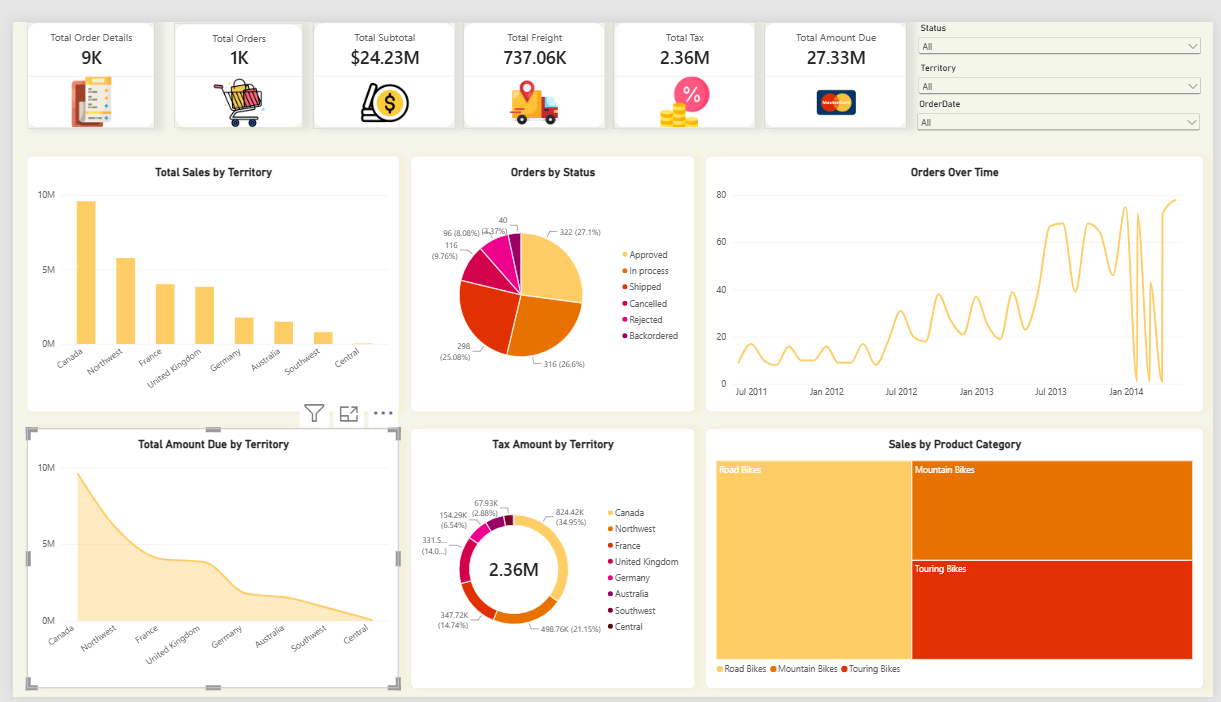

Layout of this report page (visuals, bound fields, positions):
{"tool":"powerbi","page":{"name":"Sales Overview.","canvas":[1920,1080],"ordinal":0},"visuals":[{"type":"cardVisual","fields":{"Data":["Table.# Order Details"]},"box":[21.7,0,205.8,170.8],"z":0},{"type":"cardVisual","fields":{"Data":["Table.orders"]},"box":[258,2,206,168],"z":1000},{"type":"cardVisual","fields":{"Data":["Table.Total SubTotal"]},"box":[480,0,228.5,170.8],"z":2000},{"type":"cardVisual","fields":{"Data":["Table.Total Tax"]},"box":[960,0,228.5,170.8],"z":3000},{"type":"cardVisual","fields":{"Data":["Table.Total Freight"]},"box":[720,0,228.5,170.8],"z":4000},{"type":"cardVisual","fields":{"Data":["Table.Total Due"]},"box":[1201.7,0,228.5,170.8],"z":5000},{"type":"lineChart","title":"\tOrders Over Time","fields":{"Category":["Sales Fact.OrderDate.Variation.Date Hierarchy.Year"],"Y":["Table.orders"]},"box":[1108.3,213.3,796.7,410],"z":6000},{"type":"pieChart","title":"Orders by Status","fields":{"Category":["Status Dem.Status"],"Y":["Table.orders"]},"box":[636.7,213.3,455,410],"z":7000},{"type":"treemap","title":"\tSales by Product Category","fields":{"Group":["Product Dem.ProductCategory Hierarchy.ProductCategory","Product Dem.ProductCategory Hierarchy.ProductSubCategory","Product Dem.ProductCategory Hierarchy.Product"],"Values":["CountNonNull(Sales Fact.OrderQty)"]},"box":[1108.3,650,796.7,416.7],"z":8000},{"type":"stackedAreaChart","title":"Total Amount Due by Territory","fields":{"Category":["Territory Dem.Territory"],"Y":["Table.Total Due"]},"box":[21.7,650,596.7,416.7],"z":9000},{"type":"donutChart","title":"\tTax Amount by Territory","fields":{"Category":["Territory Dem.Territory"],"Y":["Table.Total Tax"]},"box":[636.7,650,455,416.7],"z":10000},{"type":"columnChart","title":"Total Sales by Territory","fields":{"Category":["Territory Dem.Territory"],"Y":["Table.Total Due"]},"box":[21.7,213.3,596.7,410],"z":11000},{"type":"slicer","fields":{"Values":["Status Dem.Status"]},"box":[1443.3,0,461.7,105],"z":12000},{"type":"slicer","fields":{"Values":["Territory Dem.Territory"]},"box":[1444,64,461.7,83.3],"z":13000},{"type":"slicer","fields":{"Values":["Date Dem.OrderDate"]},"box":[1442,122,462,52],"z":13001}]}

Visuals, with their boxes in screenshot pixels (x1, y1, x2, y2), scaled from the page's 1920x1080 canvas onto the 1221x702 screenshot:
cardVisual - Table.# Order Details: 14/0/145/111
cardVisual - Table.orders: 164/1/295/110
cardVisual - Table.Total SubTotal: 305/0/451/111
cardVisual - Table.Total Tax: 610/0/756/111
cardVisual - Table.Total Freight: 458/0/603/111
cardVisual - Table.Total Due: 764/0/910/111
"	Orders Over Time" lineChart: 705/139/1211/405
"Orders by Status" pieChart: 405/139/694/405
"	Sales by Product Category" treemap: 705/422/1211/693
"Total Amount Due by Territory" stackedAreaChart: 14/422/393/693
"	Tax Amount by Territory" donutChart: 405/422/694/693
"Total Sales by Territory" columnChart: 14/139/393/405
slicer - Status Dem.Status: 918/0/1211/68
slicer - Territory Dem.Territory: 918/42/1212/96
slicer - Date Dem.OrderDate: 917/79/1211/113
